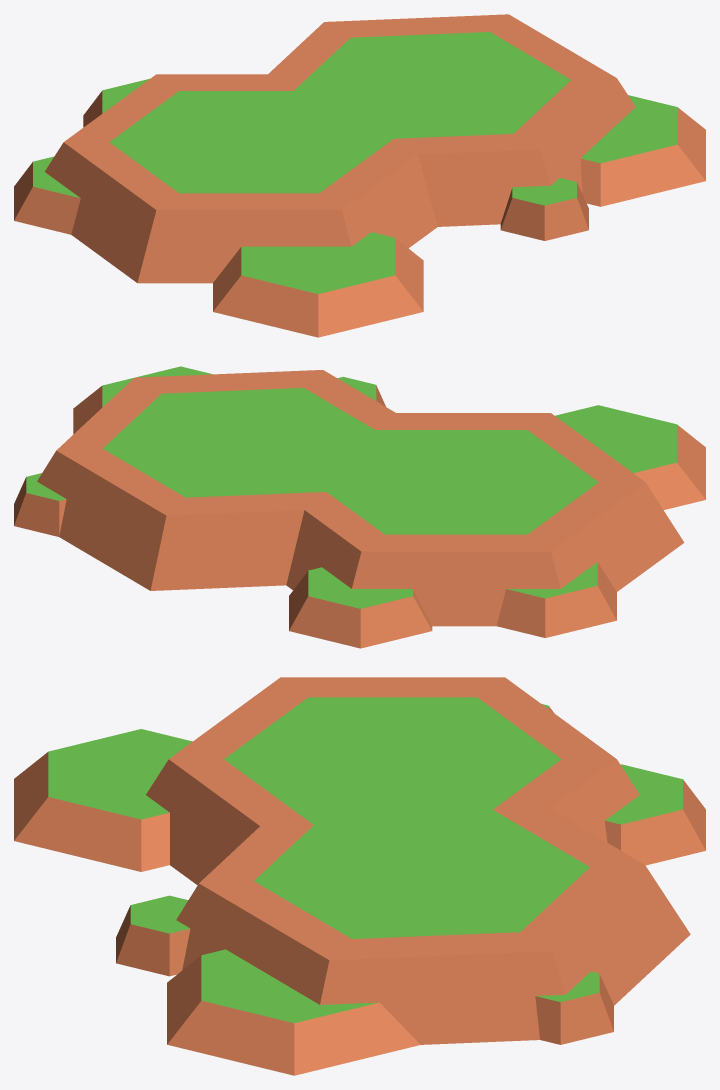
Rendered from platform_grass.glb.
The picture shows the model from 3 angles, top to bottom: view 1: azimuth 30°, elevation 25°; view 2: azimuth 150°, elevation 25°; view 3: azimuth 270°, elevation 25°; orthographic projection. The views are drawn at different scales.
Parts seen in each view (by area): view 1: platform_grass; view 2: platform_grass; view 3: platform_grass.
Boxes of the visible parts, left/top/right/bottom form: platform_grass: left=14, top=14, right=705, bottom=337; platform_grass: left=14, top=366, right=705, bottom=648; platform_grass: left=14, top=677, right=705, bottom=1075.
Bounding box in the file's own units: 0.8932 × 0.0825 × 0.7239.
